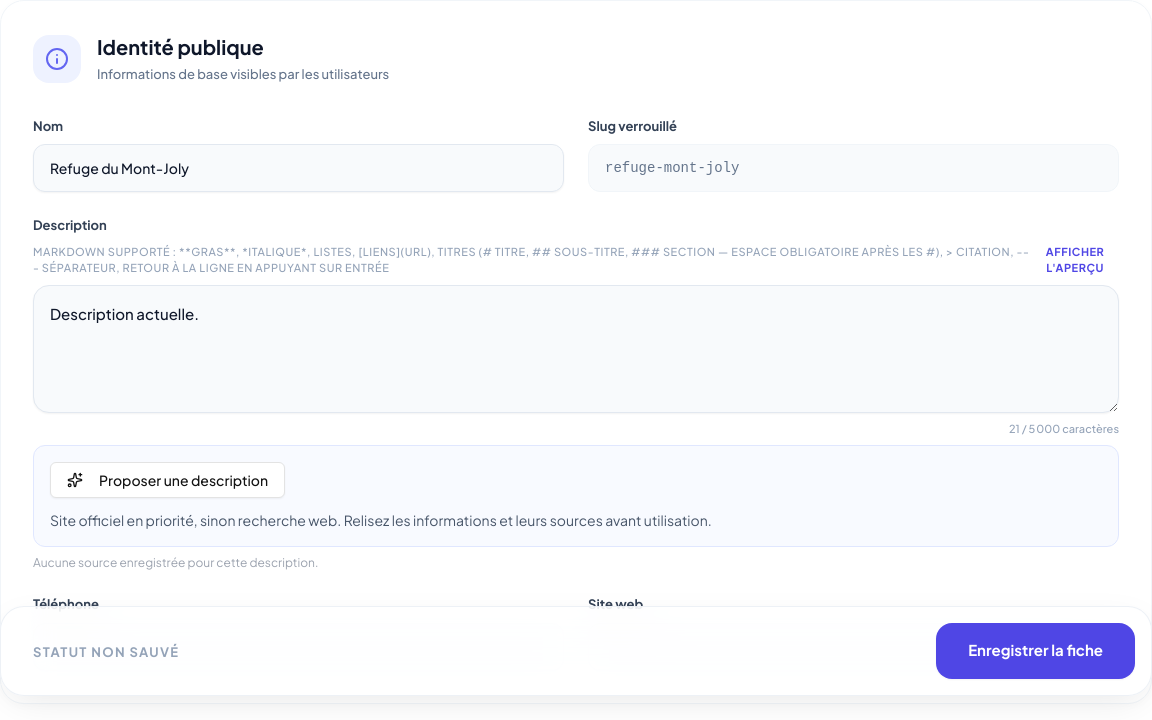
Scenario: unlocks generation after identity changes have been saved
Replace the text in the field labelled "Nom" with "Nom corrigé" at [298, 168], box [33,144,564,192]
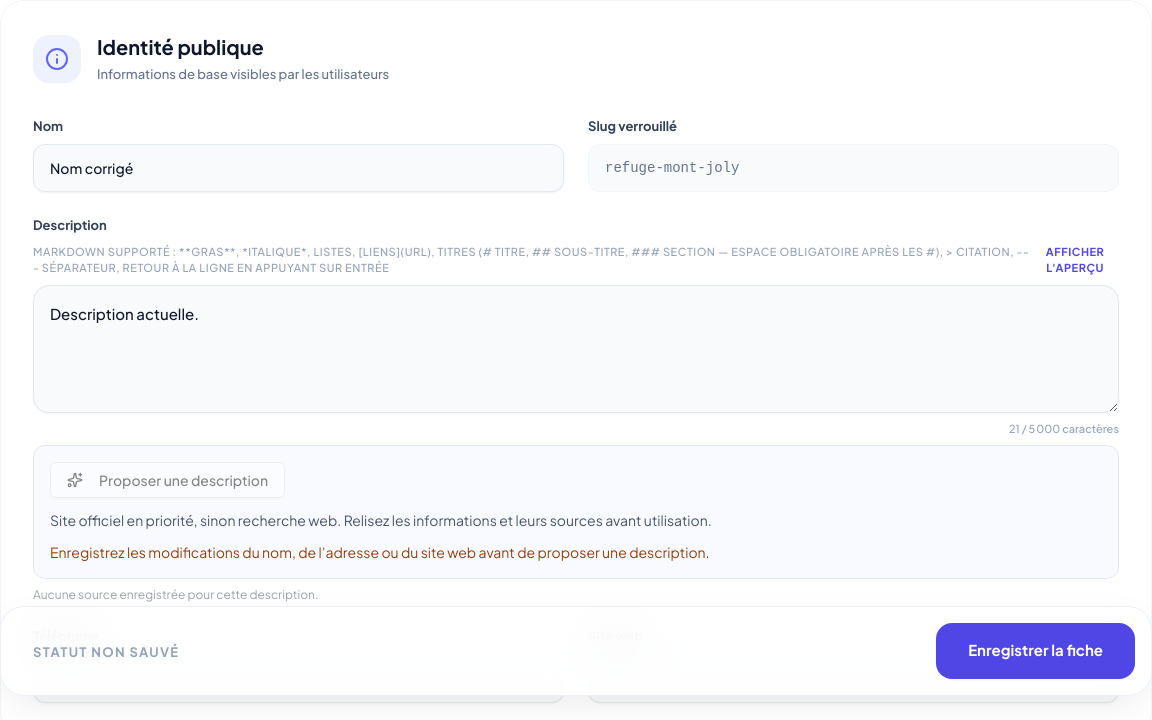
Click the button "Enregistrer la fiche" at [1036, 651], box [936,623,1135,679]
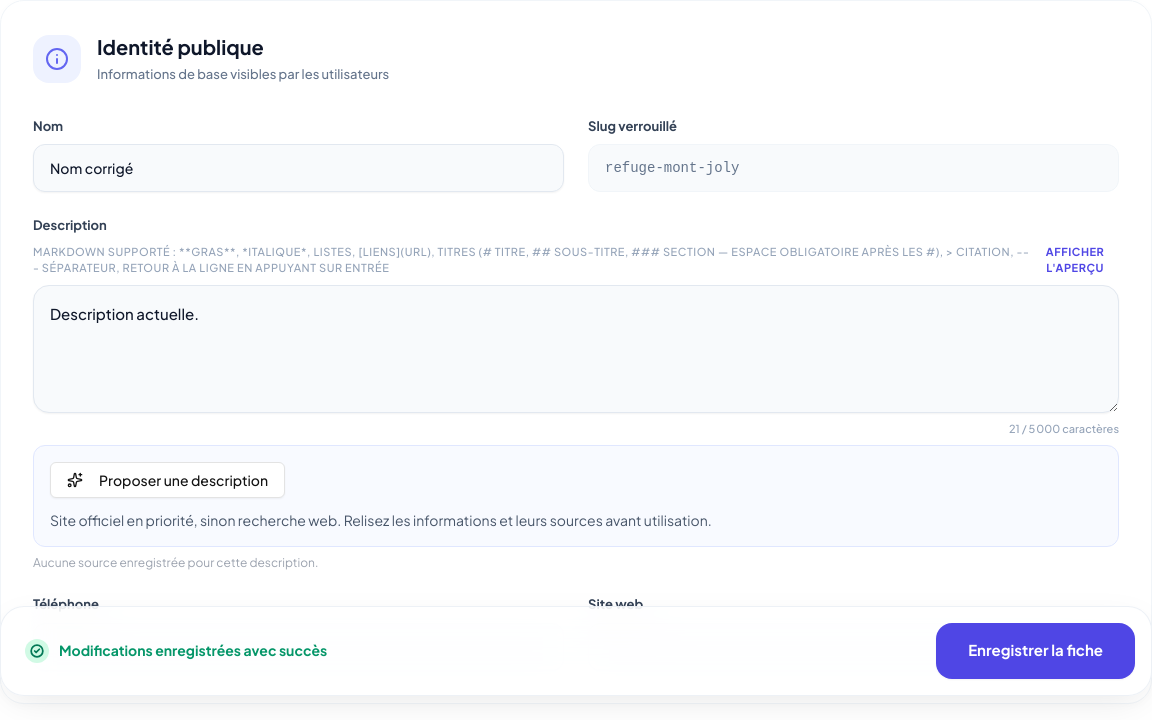
Now the text "Modifications enregistrées avec succès" is shown, box [25,639,327,663]
Now the button "Proposer une description" is enabled, box [50,462,285,498]
